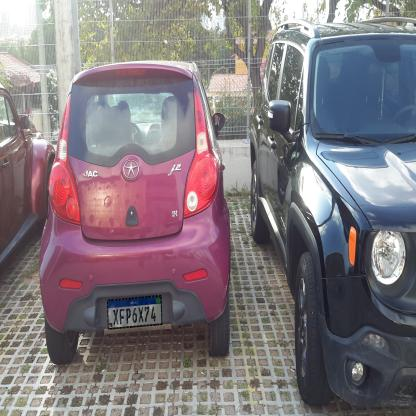PlacaM: (107, 295, 162, 330)
